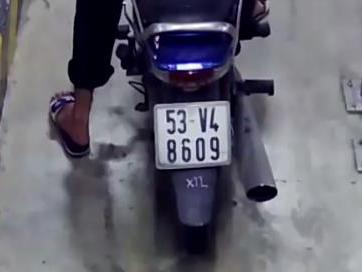num_plate: (152, 101, 232, 170)
